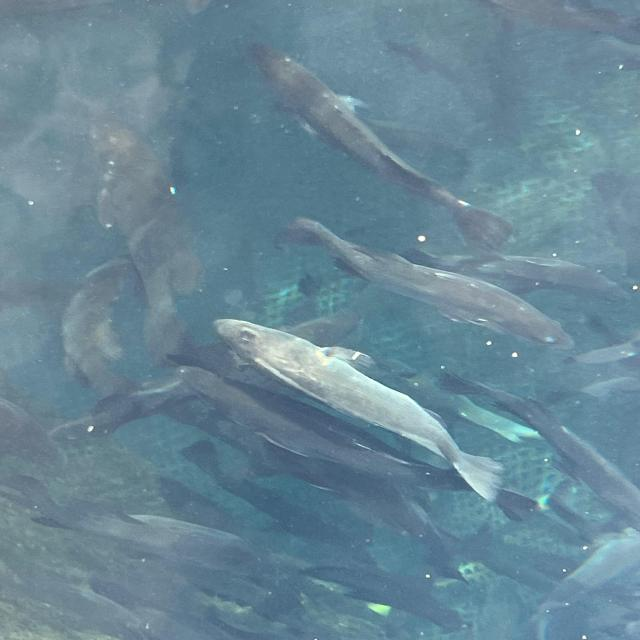ikan: (210, 317, 526, 516), (249, 40, 516, 255), (275, 216, 575, 350), (60, 113, 206, 384), (434, 369, 639, 531), (397, 244, 628, 302)
